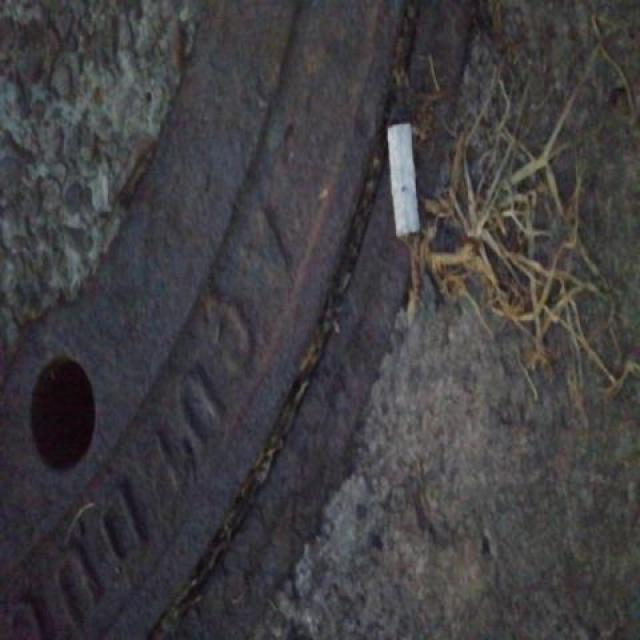non-organic waste: (383, 118, 425, 242)
